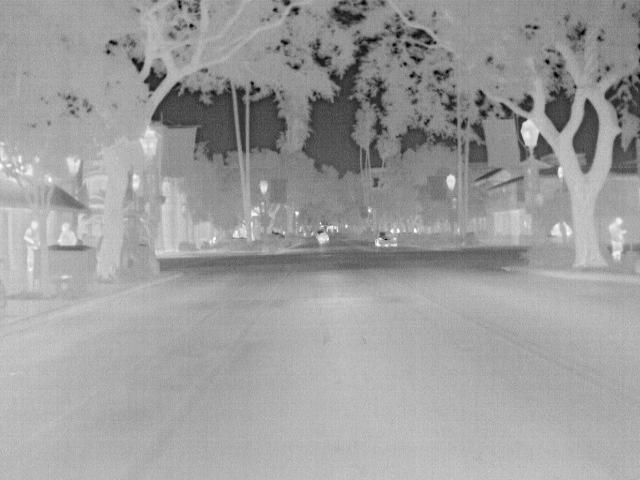car: (371, 229, 400, 248), (315, 229, 332, 242)
person: (24, 219, 44, 274), (606, 216, 626, 262), (53, 220, 80, 248), (229, 228, 241, 239)
